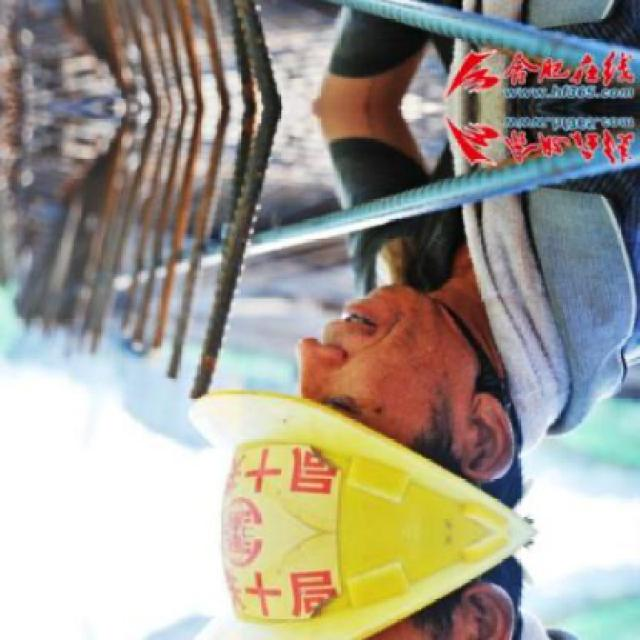con casco: (197, 256, 596, 572)
